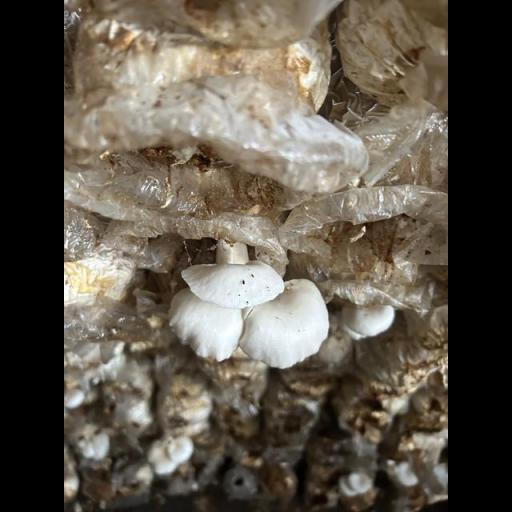White Oyster Mushroom: (154, 239, 349, 374)
